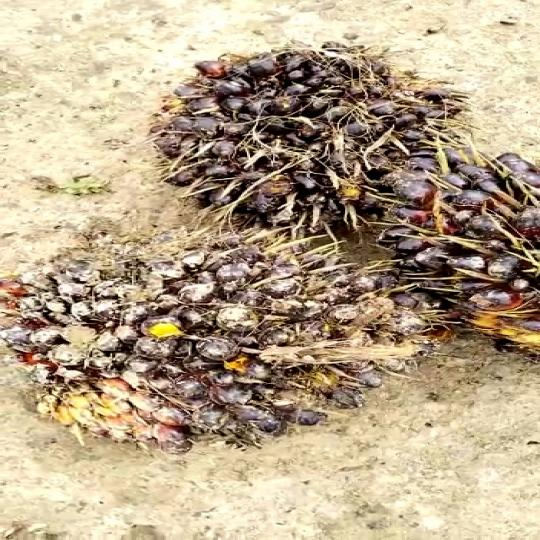mentah: (0, 251, 457, 447), (142, 41, 481, 214)
